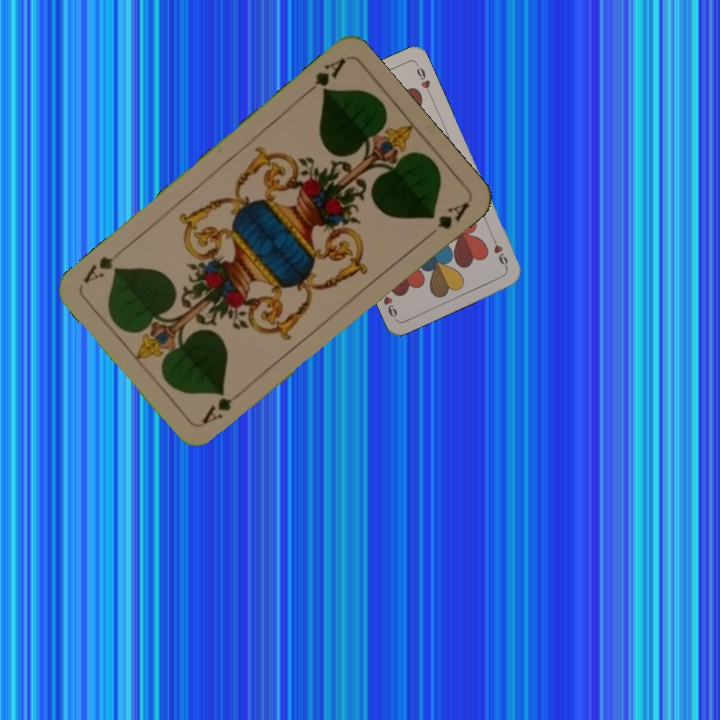GA: (299, 54, 348, 99), (198, 391, 235, 427)
H9: (488, 232, 510, 271)
